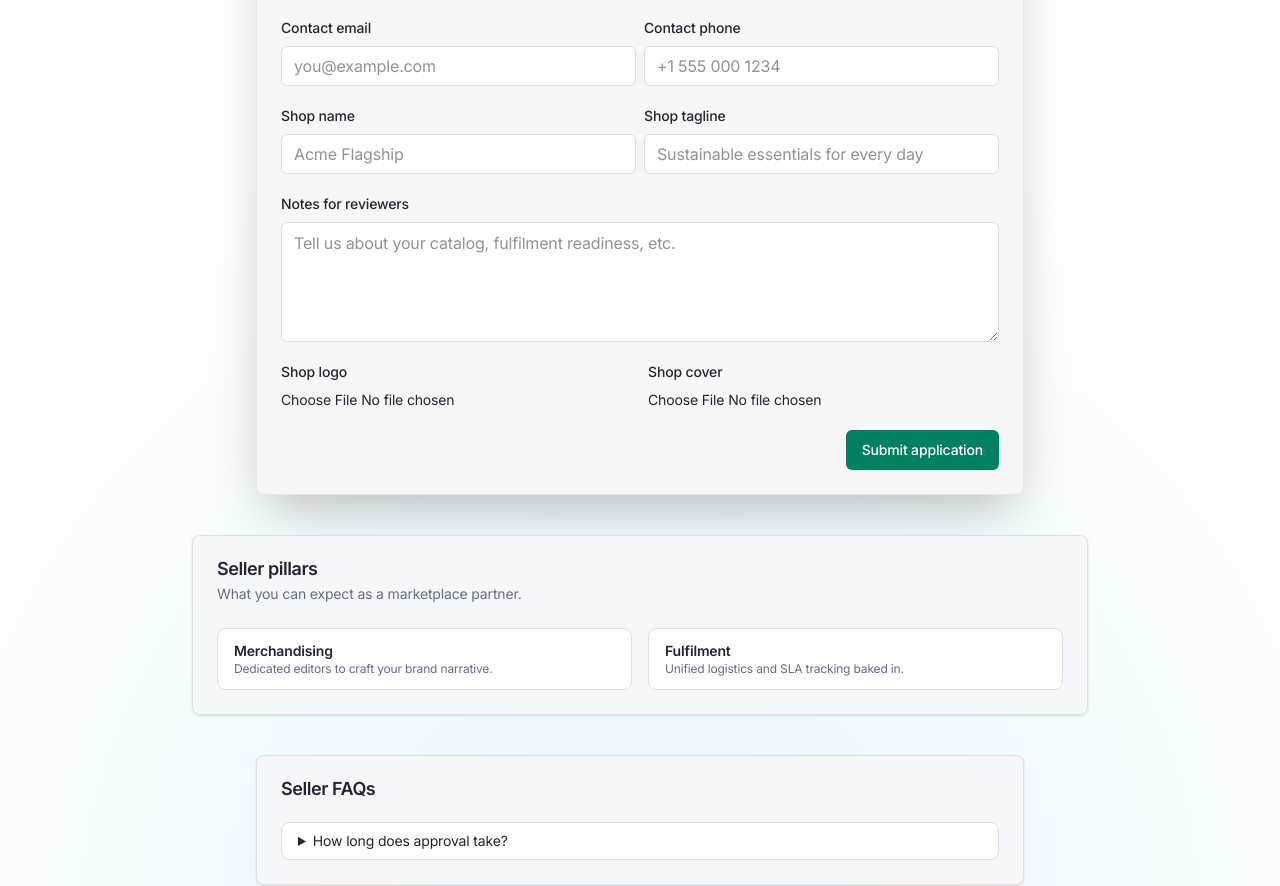
Test: SellerApplicationPage › shows a validation error when the display name is missing
(page scrolled)
Click the button "Submit application" at (922, 450), box [846,430,999,470]
(page scrolled)
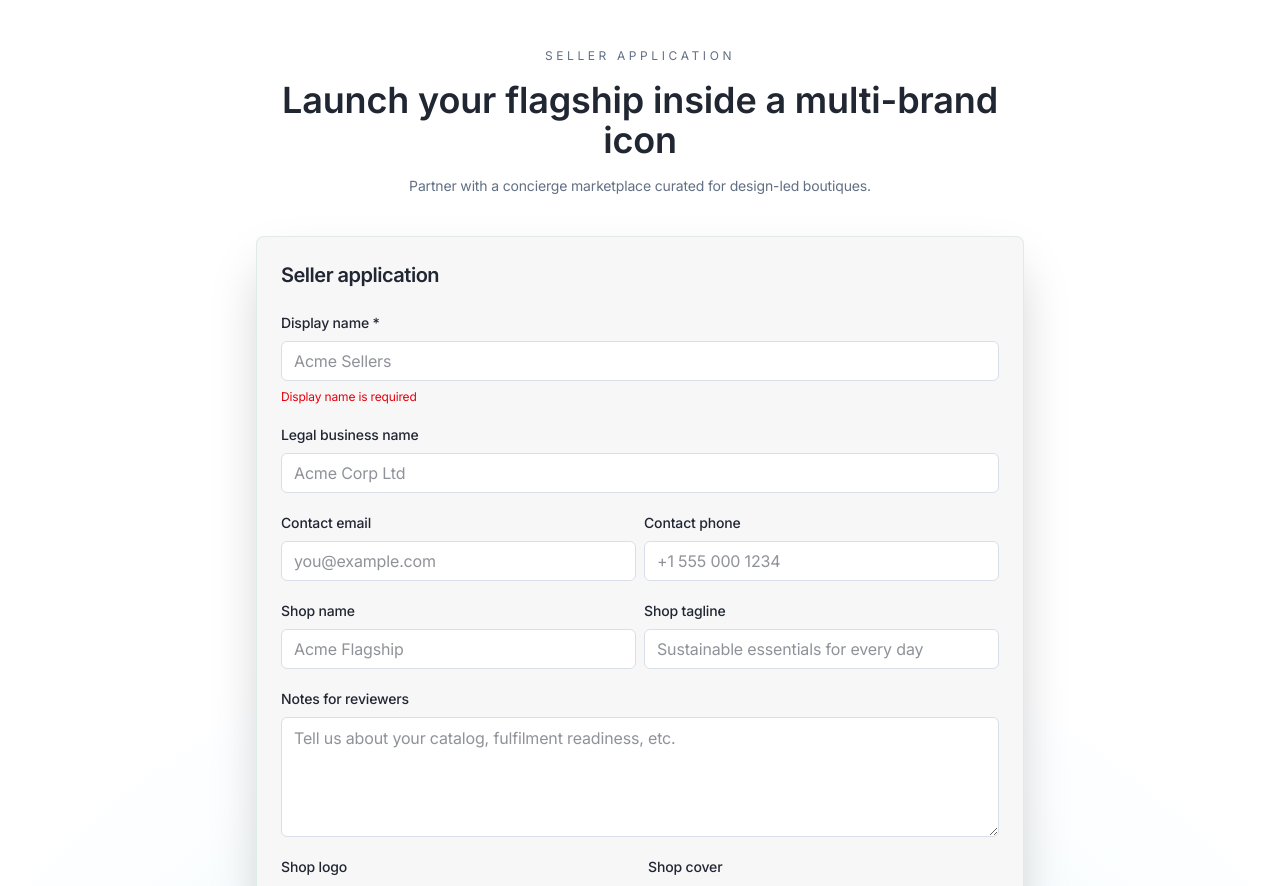
Now the text "Display name is required" is shown, box [281,389,417,404]
